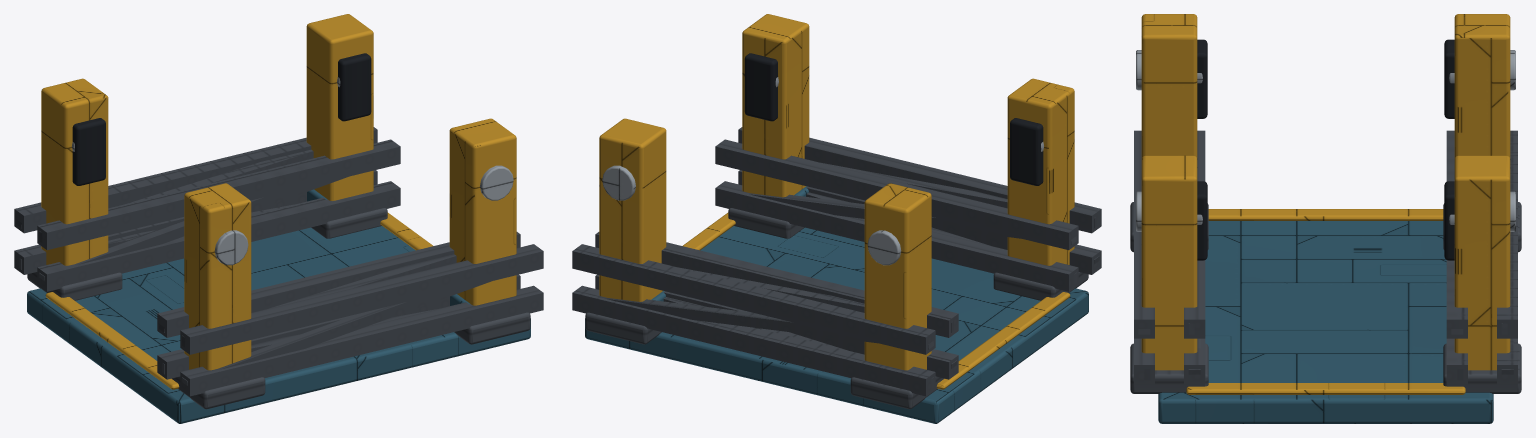
File: berth_jaw_lod2.glb
3 views of the same model, side by side, from view 1: azimuth 30°, elevation 25°; view 2: azimuth 150°, elevation 25°; view 3: azimuth 270°, elevation 25° (orthographic). The views are drawn at different scales.
Parts seen in each view (by area): view 1: LOD2_Mechanical, LOD2_Warning, LOD2_Armor, LOD2_MechanicalDark, LOD2_BrushedMetal; view 2: LOD2_Mechanical, LOD2_Warning, LOD2_Armor, LOD2_MechanicalDark, LOD2_BrushedMetal; view 3: LOD2_Armor, LOD2_Warning, LOD2_Mechanical, LOD2_MechanicalDark, LOD2_BrushedMetal.
Part boxes in pixels (bbox=[...]): LOD2_Mechanical: bbox=[14, 127, 543, 409]; LOD2_Warning: bbox=[41, 14, 516, 389]; LOD2_Armor: bbox=[27, 189, 530, 423]; LOD2_MechanicalDark: bbox=[72, 53, 371, 185]; LOD2_BrushedMetal: bbox=[72, 77, 513, 265]; LOD2_Mechanical: bbox=[572, 127, 1101, 409]; LOD2_Warning: bbox=[599, 14, 1074, 389]; LOD2_Armor: bbox=[585, 186, 1088, 423]; LOD2_MechanicalDark: bbox=[744, 53, 1043, 185]; LOD2_BrushedMetal: bbox=[602, 77, 1043, 265]; LOD2_Armor: bbox=[1158, 221, 1493, 423]; LOD2_Warning: bbox=[1141, 14, 1510, 394]; LOD2_Mechanical: bbox=[1130, 130, 1521, 393]; LOD2_MechanicalDark: bbox=[1197, 39, 1454, 260]; LOD2_BrushedMetal: bbox=[1136, 50, 1515, 231].
Size of the model in its own units: 4.01 by 2.33 by 3.5.
5 materials, 5 textured.
